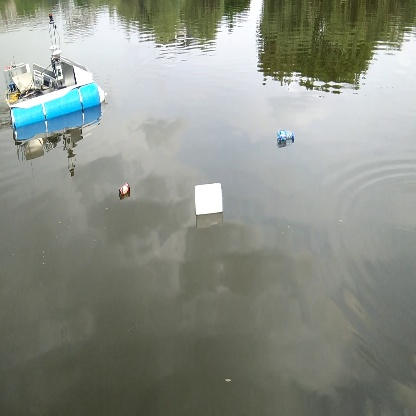bottle: (275, 127, 298, 143), (115, 176, 131, 198)
plastic-garbage: (188, 181, 230, 219)
